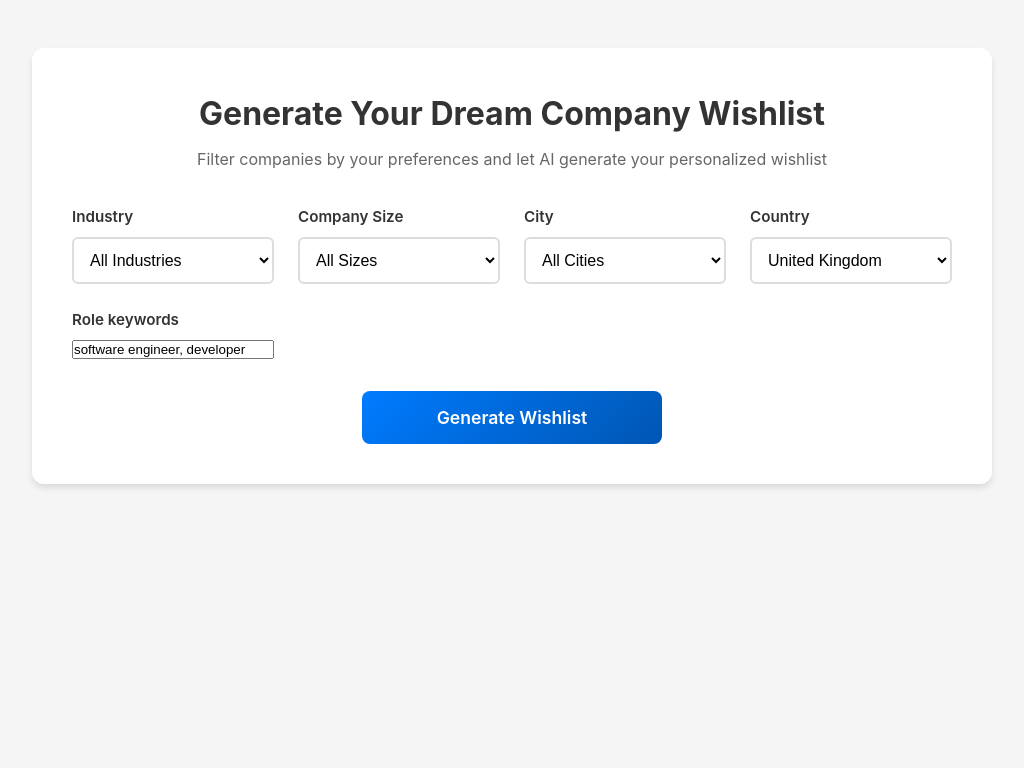
WishlistGenerator › generates wishlist successfully
Step 1. Click the button "Generate Wishlist" → (512, 418), box [362,391,662,444]
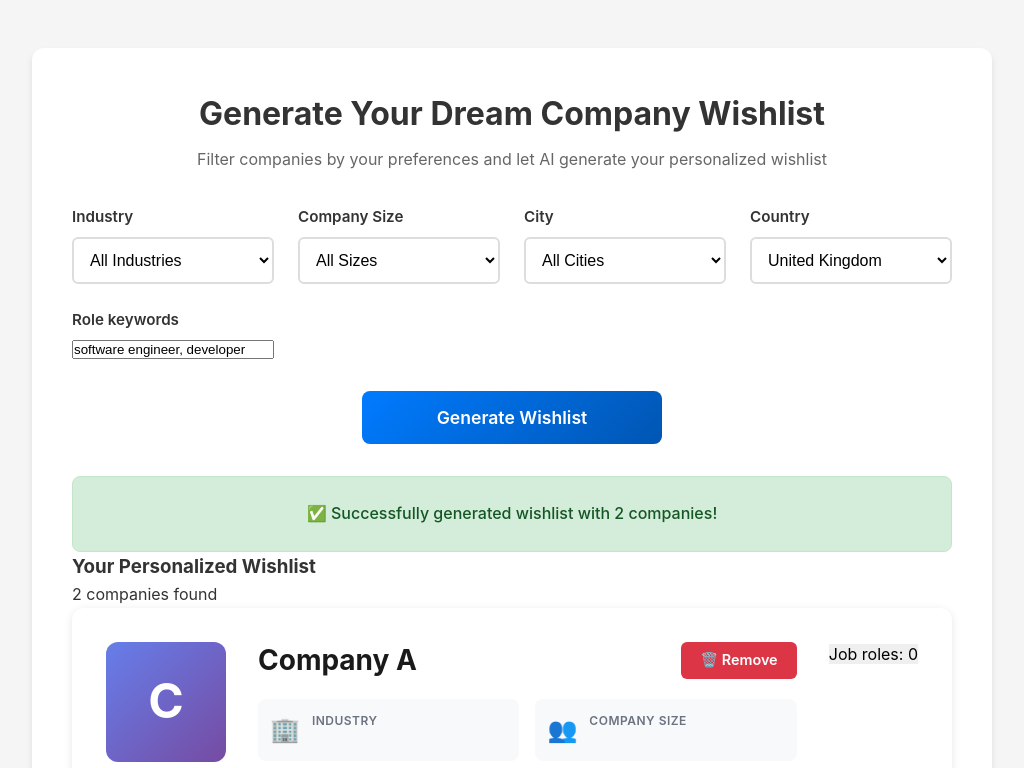
Result: the text "✅ Successfully generated wishlist with 2 companies!" is shown at [307,503,717,523]
